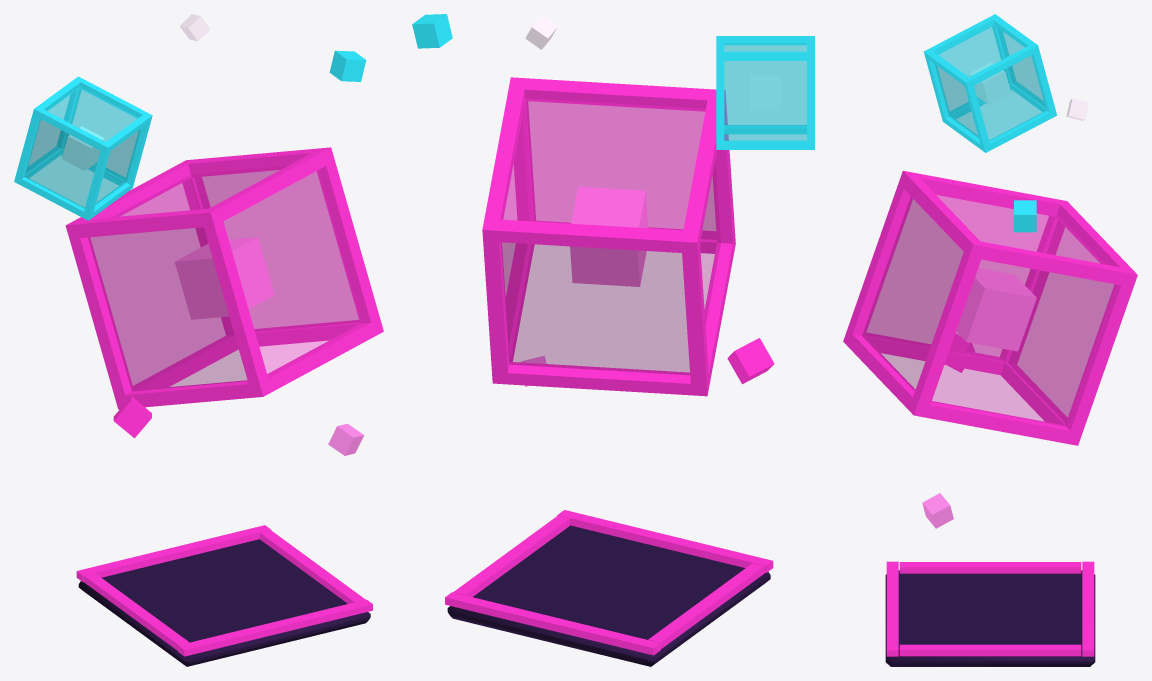
The picture shows the model from 3 angles, left to right: view 1: azimuth 30°, elevation 25°; view 2: azimuth 150°, elevation 25°; view 3: azimuth 270°, elevation 25°; orthographic projection. The views are drawn at different scales.
Parts seen in each view (by area): view 1: anim_bob_cube, me_cube_m, anim_spin_small, fx_glow_pad, fx_glow_bits; view 2: anim_bob_cube, me_cube_m, anim_spin_small, fx_glow_pad, fx_glow_bits; view 3: anim_bob_cube, me_cube_m, anim_spin_small, fx_glow_pad, fx_glow_bits.
Part boxes in pixels (left/top/right/bottom): anim_bob_cube: left=65, top=147, right=383, bottom=409; me_cube_m: left=78, top=539, right=370, bottom=666; anim_spin_small: left=14, top=76, right=152, bottom=220; fx_glow_pad: left=76, top=525, right=372, bottom=656; fx_glow_bits: left=113, top=14, right=366, bottom=455; anim_bob_cube: left=482, top=77, right=735, bottom=396; me_cube_m: left=447, top=525, right=770, bottom=666; anim_spin_small: left=716, top=36, right=814, bottom=149; fx_glow_pad: left=445, top=510, right=773, bottom=655; fx_glow_bits: left=412, top=14, right=774, bottom=386; anim_bob_cube: left=843, top=170, right=1137, bottom=445; me_cube_m: left=885, top=570, right=1095, bottom=666; anim_spin_small: left=923, top=14, right=1057, bottom=152; fx_glow_pad: left=886, top=561, right=1094, bottom=656; fx_glow_bits: left=922, top=98, right=1089, bottom=528.
Bounding box in the file's own units: 2.24 × 3.38 × 1.69.
3 materials, 3 textured.
